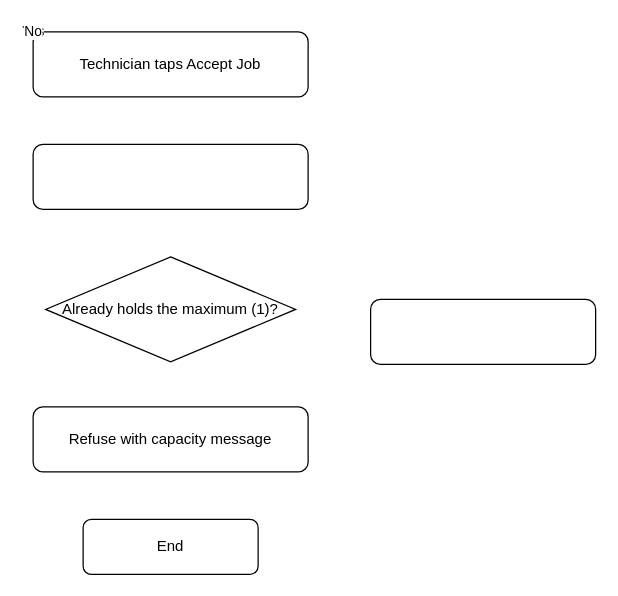
The diagram is 618 pixels wide and 596 high, and some of its shapes have lost their labels. The box of each missing label's shape, as (x1, y1, x2, y2) in pixels:
Accept and generate OTP: (369, 298, 596, 364)
Count active jobs live from database: (32, 143, 308, 209)
